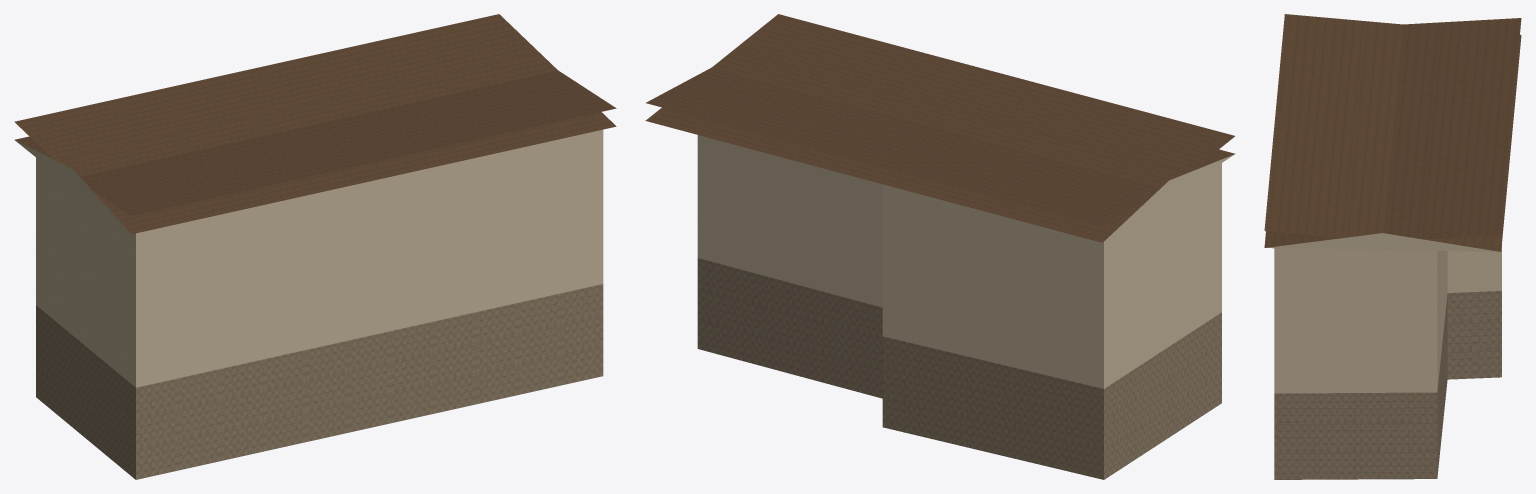
The model's file is bld_c-19_-13_736.gltf.
3 views of the same model, side by side, from view 1: azimuth 30°, elevation 25°; view 2: azimuth 150°, elevation 25°; view 3: azimuth 270°, elevation 25° (orthographic). The views are drawn at different scales.
Parts seen in each view (by area): view 1: bld_c-19_-13_736; view 2: bld_c-19_-13_736; view 3: bld_c-19_-13_736.
Part boxes in pixels (x1=…): bld_c-19_-13_736: x1=14, y1=14, x2=616, y2=479; bld_c-19_-13_736: x1=645, y1=14, x2=1235, y2=479; bld_c-19_-13_736: x1=1264, y1=14, x2=1521, y2=479.
Bounding box in the file's own units: 27.95 × 14.9 × 13.74.
Materials: 4 (4 with a texture image).
